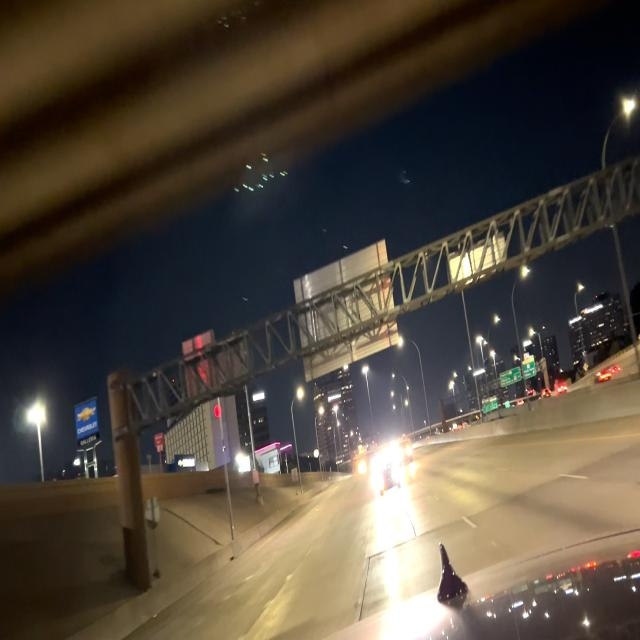back-of-sign: (291, 236, 400, 383), (182, 329, 250, 405), (447, 231, 511, 287), (144, 495, 161, 532)
